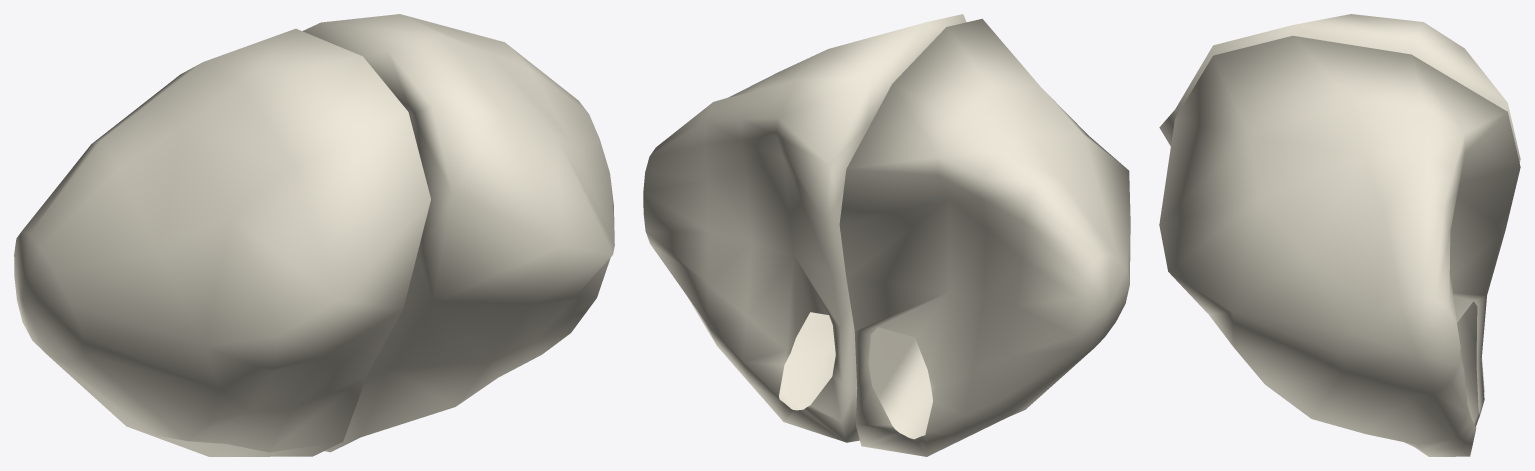
The picture shows the model from 3 angles, left to right: view 1: azimuth 30°, elevation 25°; view 2: azimuth 150°, elevation 25°; view 3: azimuth 270°, elevation 25°; orthographic projection. The views are drawn at different scales.
Visible parts, largest first — view 1: ZA_0e6c941dc13fd8c7; view 2: ZA_0e6c941dc13fd8c7; view 3: ZA_0e6c941dc13fd8c7.
Boxes of the visible parts, bbox=[...] form: ZA_0e6c941dc13fd8c7: bbox=[14, 14, 614, 456]; ZA_0e6c941dc13fd8c7: bbox=[643, 14, 1130, 456]; ZA_0e6c941dc13fd8c7: bbox=[1159, 14, 1520, 456].
Size of the model in its own units: 0.0282 by 0.0217 by 0.0176.
